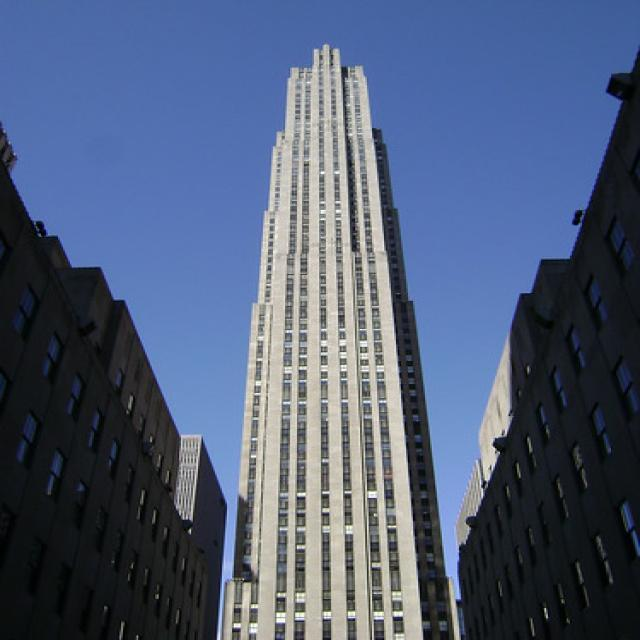building: (217, 39, 470, 640)
